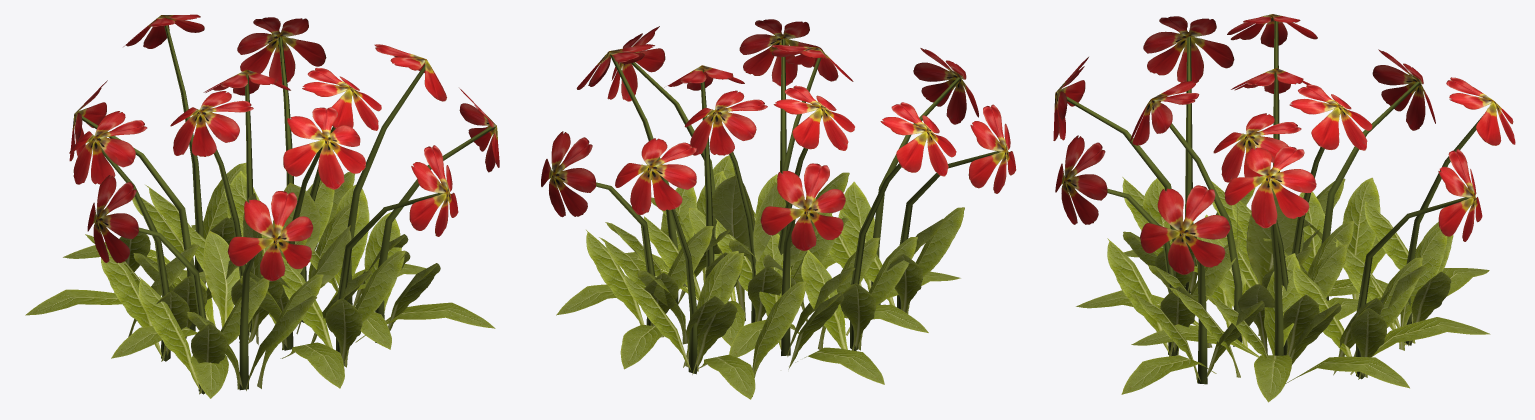
The model's file is flower plant4.FBX.
3 renders of one model, left to right at view 1: azimuth 30°, elevation 25°; view 2: azimuth 150°, elevation 25°; view 3: azimuth 270°, elevation 25°, orthographic. The views are drawn at different scales.
Parts seen in each view (by area): view 1: Box001; view 2: Box001; view 3: Box001.
Boxes of the visible parts, bbox=[...] form: Box001: bbox=[25, 14, 499, 398]; Box001: bbox=[541, 19, 1016, 399]; Box001: bbox=[1053, 14, 1515, 402].
Size of the model in its own units: 5.85 by 3.64 by 5.94.
